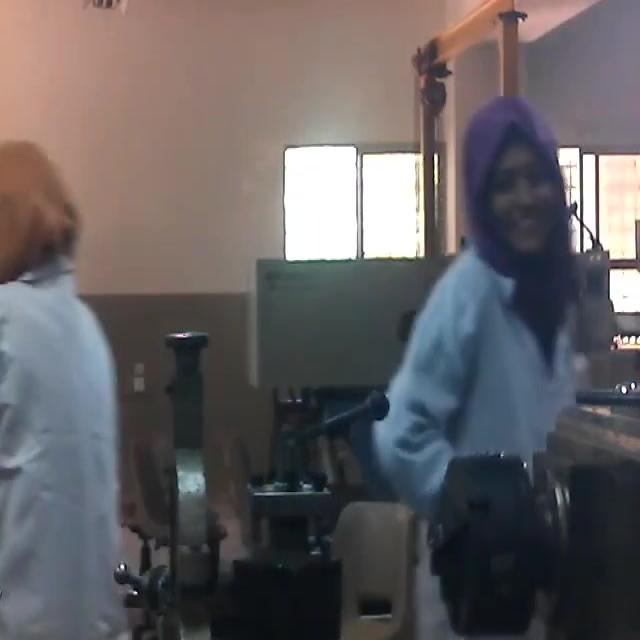labcoat: (376, 240, 579, 640), (0, 253, 126, 640)
